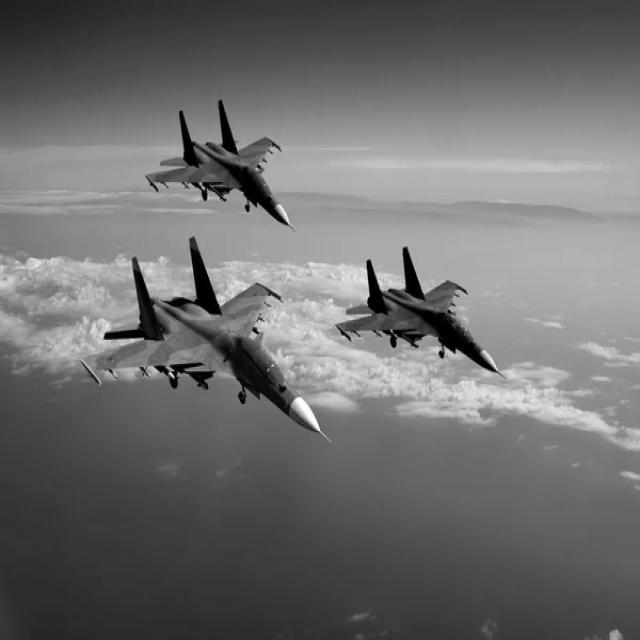Aircraft: (73, 237, 334, 448), (333, 243, 522, 384), (144, 96, 300, 235)
